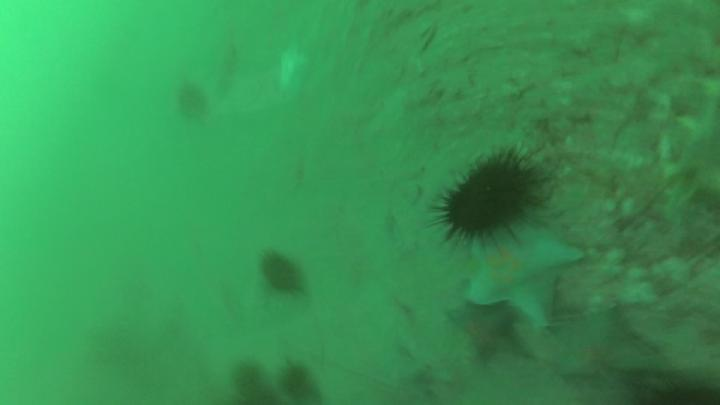echinus: (445, 158, 535, 238), (262, 252, 301, 290), (177, 85, 206, 117)
starfish: (461, 226, 580, 333), (546, 313, 654, 380), (443, 300, 525, 368)
